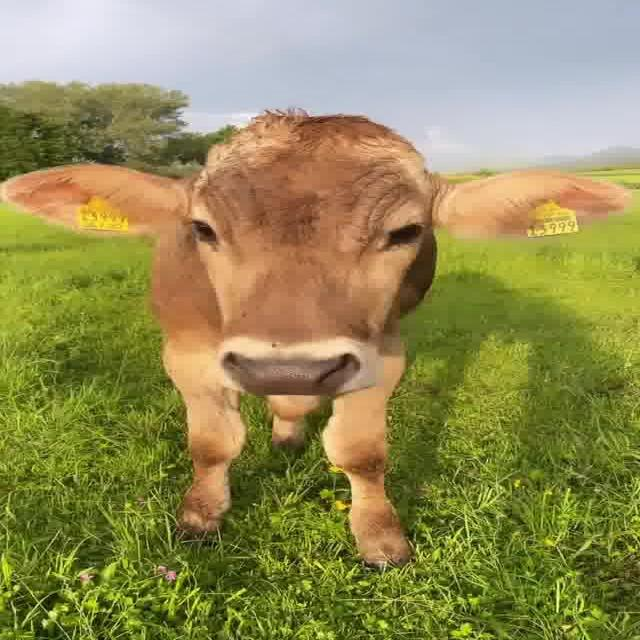cowFace: (12, 95, 632, 388)
